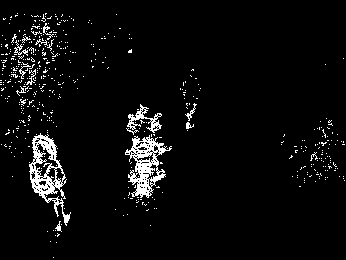person: (29, 133, 71, 231), (178, 65, 202, 132)
